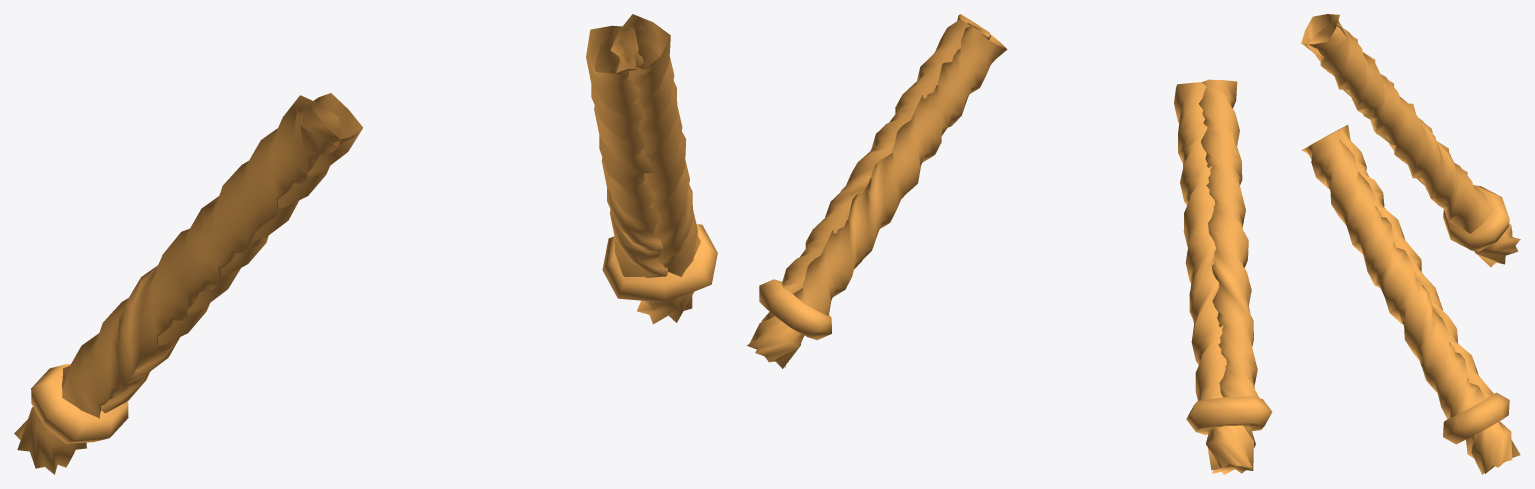
3 views of the same model, side by side, from view 1: azimuth 30°, elevation 25°; view 2: azimuth 150°, elevation 25°; view 3: azimuth 270°, elevation 25° (orthographic). The views are drawn at different scales.
Visible parts, largest first — view 1: polySurface34; view 2: polySurface34; view 3: polySurface34.
Boxes of the visible parts, <box> form: polySurface34: <box>14,14,717,474</box>; polySurface34: <box>747,14,1272,474</box>; polySurface34: <box>1301,14,1520,474</box>.
Size of the model in its own units: 0.022 by 0.0131 by 0.00877.
1 material, 1 textured.
